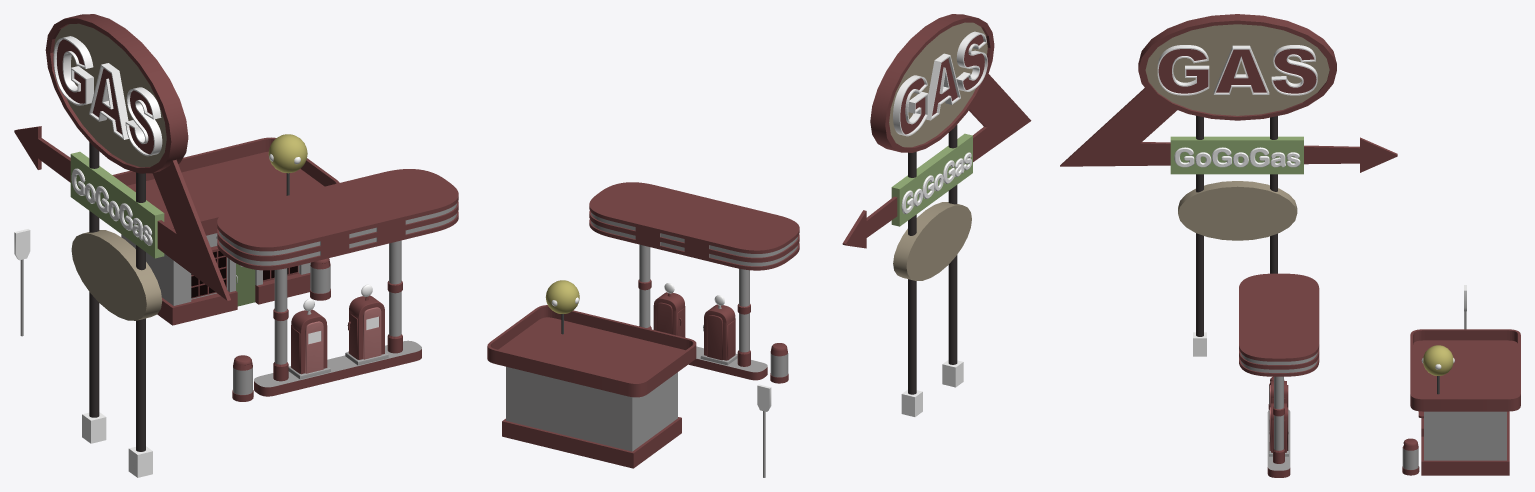
File: gasStation.fbx
3 views of the same model, side by side, from view 1: azimuth 30°, elevation 25°; view 2: azimuth 150°, elevation 25°; view 3: azimuth 270°, elevation 25° (orthographic). The views are drawn at different scales.
Parts seen in each view (by area): view 1: Box008, Box002, Box015, Cylinder015.001, Cylinder013.001, Object008, TextPlus005, Box016, Object024, Plane001, Object010, Cylinder014.001 (+19 smaller); view 2: Box002, Box008, Plane001, Cylinder015.001, Cylinder013.001, Box015, Object008, Object024, TextPlus005, Box016, Object010, Box009 (+9 smaller); view 3: Box002, Object008, Box008, Box015, Cylinder015.001, Plane001, Cylinder013.001, Box016, Object009, TextPlus004, TextPlus003, Object024 (+5 smaller).
Boxes of the visible parts, bbox=[...] form: Box008: bbox=[217, 169, 458, 270]; Box002: bbox=[112, 137, 339, 235]; Box015: bbox=[14, 126, 230, 300]; Cylinder015.001: bbox=[71, 230, 162, 320]; Cylinder013.001: bbox=[45, 14, 188, 173]; Object008: bbox=[53, 23, 166, 167]; TextPlus005: bbox=[53, 36, 162, 156]; Box016: bbox=[70, 151, 164, 258]; Object024: bbox=[157, 272, 310, 325]; Plane001: bbox=[121, 233, 310, 305]; Object010: bbox=[57, 39, 153, 154]; Cylinder014.001: bbox=[136, 172, 145, 451]; Box002: bbox=[487, 305, 696, 397]; Box008: bbox=[589, 182, 799, 270]; Plane001: bbox=[506, 366, 677, 451]; Cylinder015.001: bbox=[893, 202, 971, 280]; Cylinder013.001: bbox=[870, 14, 994, 152]; Box015: bbox=[842, 74, 1031, 248]; Object008: bbox=[889, 22, 987, 147]; Object024: bbox=[502, 417, 681, 468]; TextPlus005: bbox=[893, 31, 987, 136]; Box016: bbox=[891, 133, 972, 226]; Object010: bbox=[900, 34, 984, 134]; Box009: bbox=[704, 304, 735, 360]; Box002: bbox=[1410, 329, 1520, 411]; Object008: bbox=[1145, 24, 1329, 115]; Box008: bbox=[1239, 273, 1319, 376]; Box015: bbox=[1060, 88, 1397, 172]; Cylinder015.001: bbox=[1178, 181, 1297, 240]; Plane001: bbox=[1424, 411, 1506, 460]; Cylinder013.001: bbox=[1138, 14, 1336, 120]; Box016: bbox=[1170, 136, 1303, 174]; Object009: bbox=[1158, 49, 1316, 93]; TextPlus004: bbox=[1157, 45, 1317, 95]; TextPlus003: bbox=[1174, 147, 1300, 167]; Object024: bbox=[1421, 411, 1509, 475].
Bounding box in the file's own units: 2209 × 2423 × 3010.
